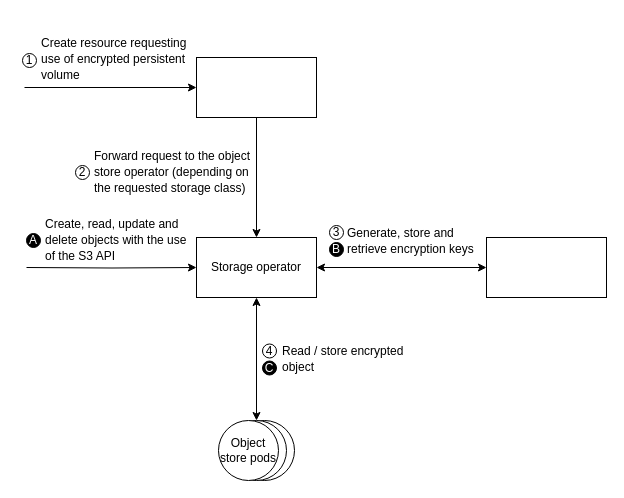
The diagram is 624 pixels wide and 498 high, and some of its shapes have lost their labels. Each missing label, with the box of its shape:
HashiCorp Vault: (486, 236, 606, 298)
K8s API: (196, 56, 316, 118)
